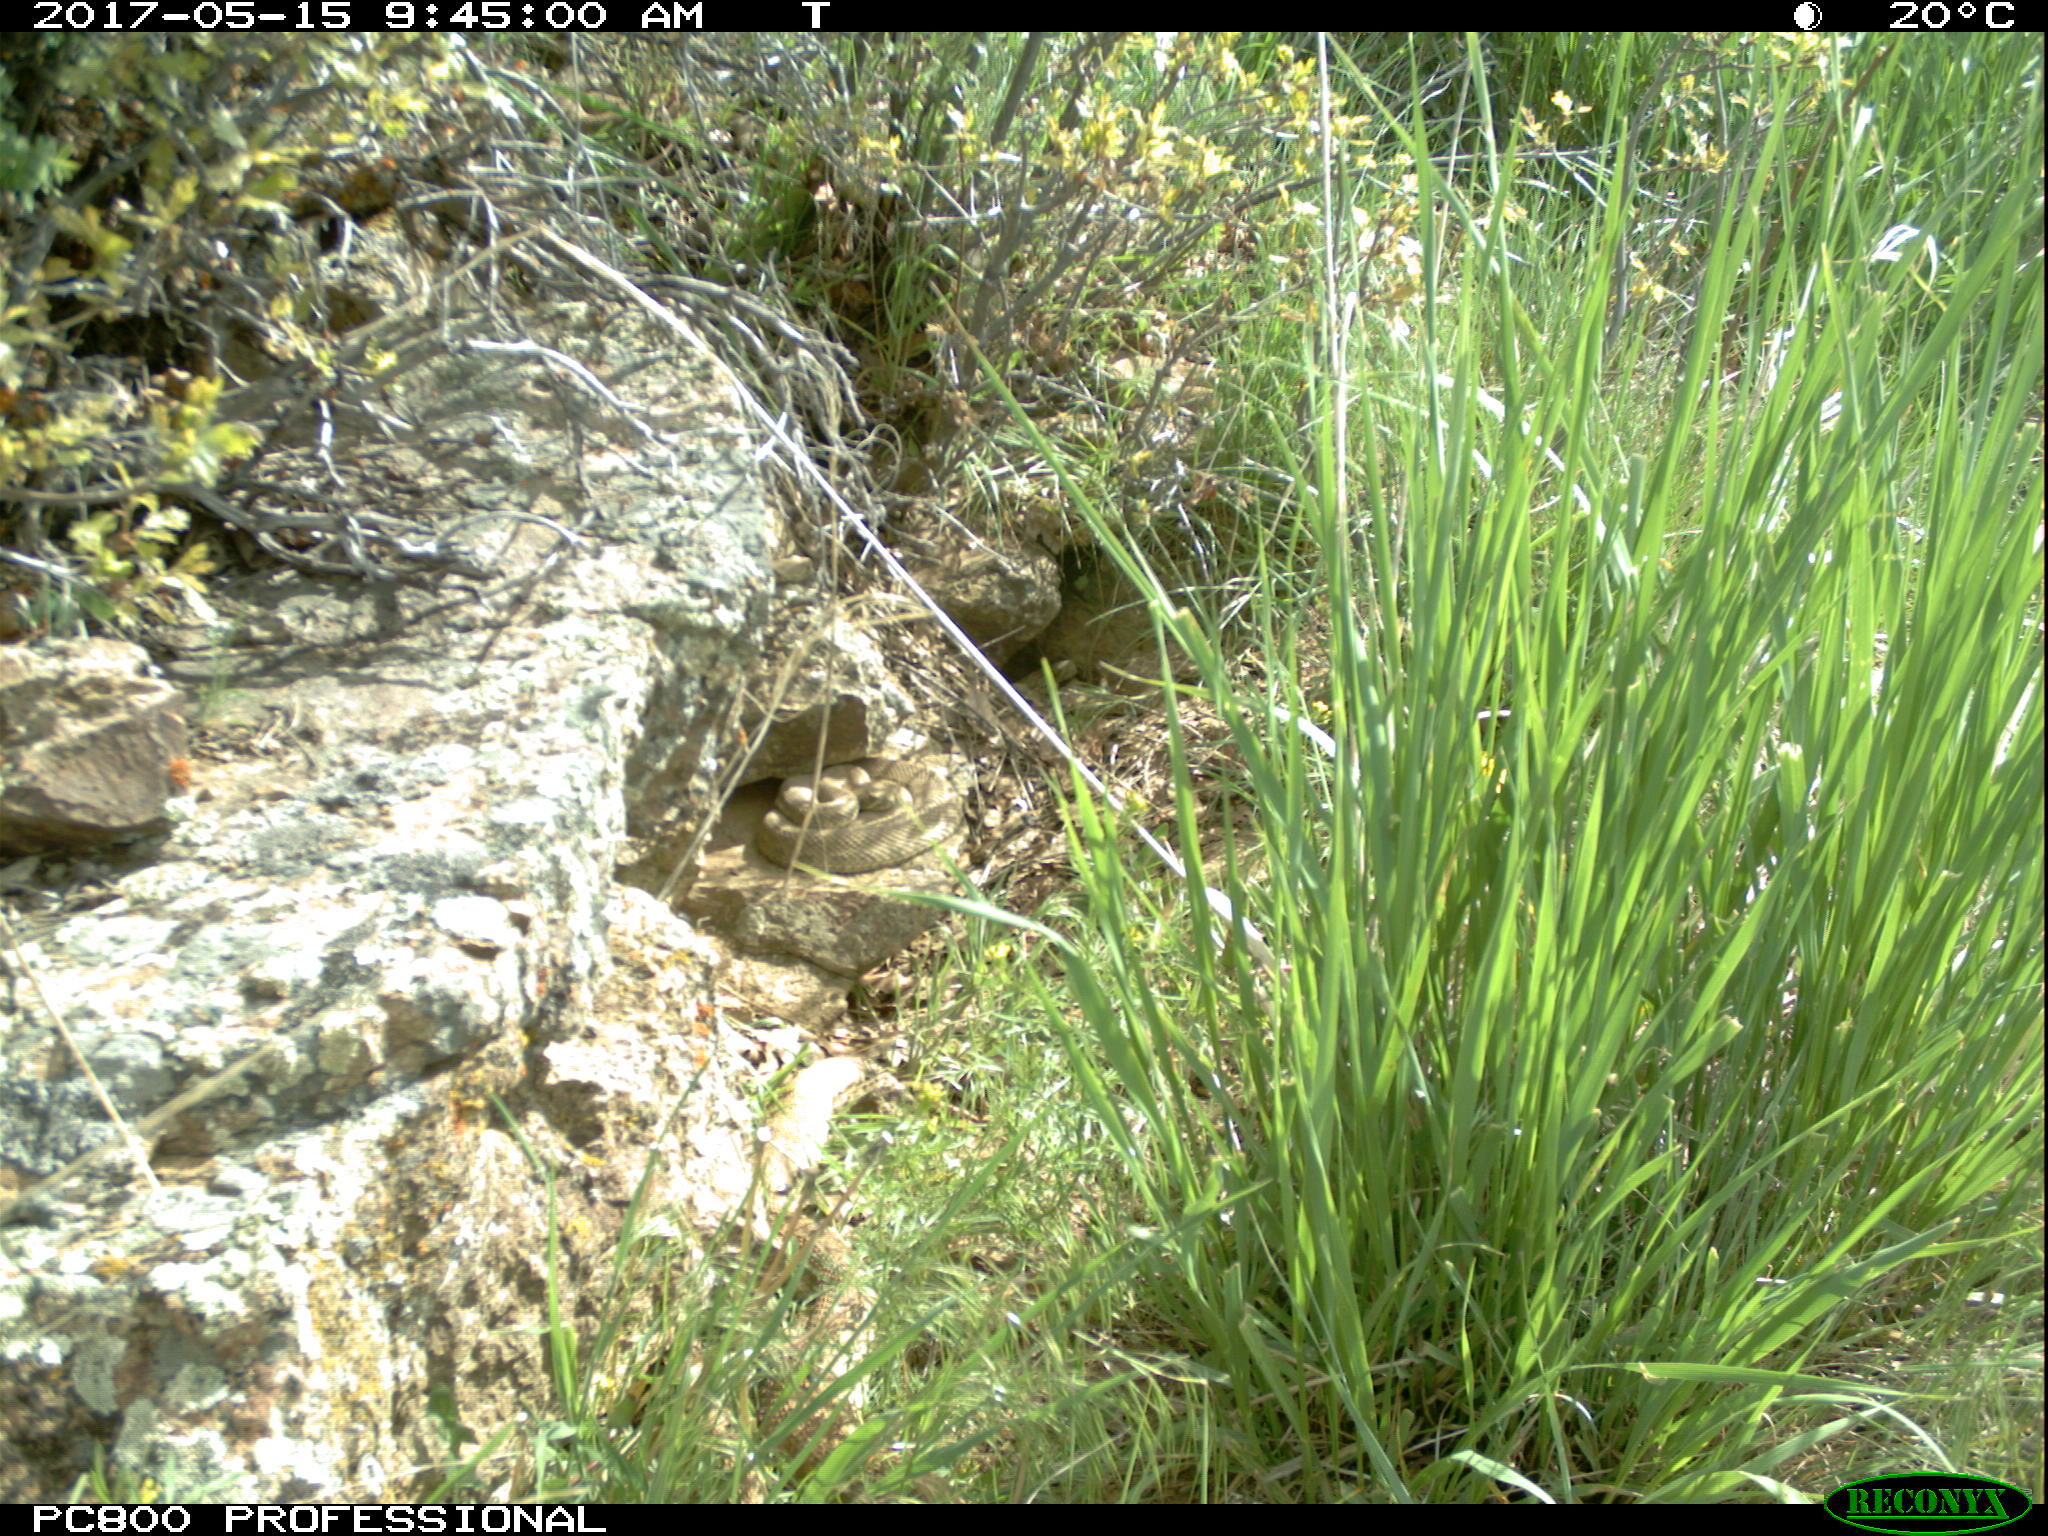snake: (751, 1042, 871, 1418), (755, 760, 963, 871)
